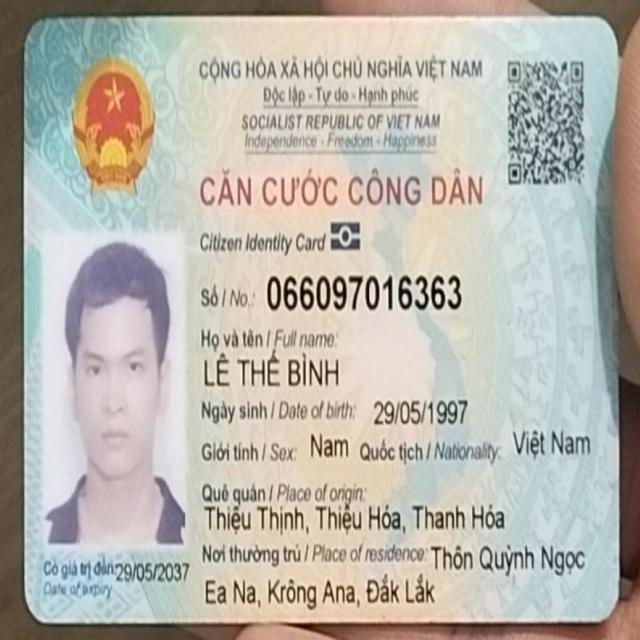current_place: (199, 570, 441, 611), (430, 537, 589, 581)
dob: (370, 393, 473, 430)
expire_date: (113, 558, 193, 587)
gender: (306, 427, 353, 464)
id: (262, 267, 462, 311)
name: (203, 346, 341, 390)
nationality: (508, 421, 594, 464)
origin_place: (201, 503, 510, 536)
qr: (503, 53, 591, 187)
